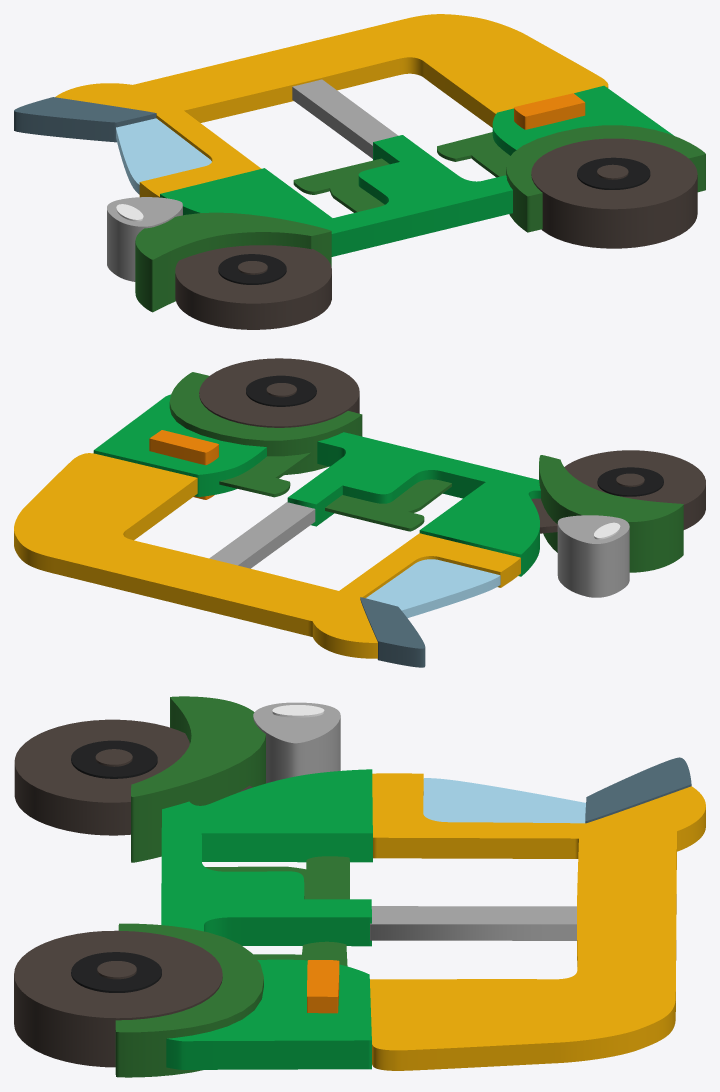
File: emoji_u1f6fa.glb
The picture shows the model from 3 angles, top to bottom: view 1: azimuth 30°, elevation 25°; view 2: azimuth 150°, elevation 25°; view 3: azimuth 270°, elevation 25°; orthographic projection. The views are drawn at different scales.
Visible parts, largest first — view 1: emoji_u1f6fa; view 2: emoji_u1f6fa; view 3: emoji_u1f6fa.
Boxes of the visible parts, bbox=[...] form: emoji_u1f6fa: bbox=[14, 14, 705, 329]; emoji_u1f6fa: bbox=[14, 358, 705, 667]; emoji_u1f6fa: bbox=[14, 696, 705, 1077].
Size of the model in its own units: 0.0346 by 0.0036 by 0.0305.
